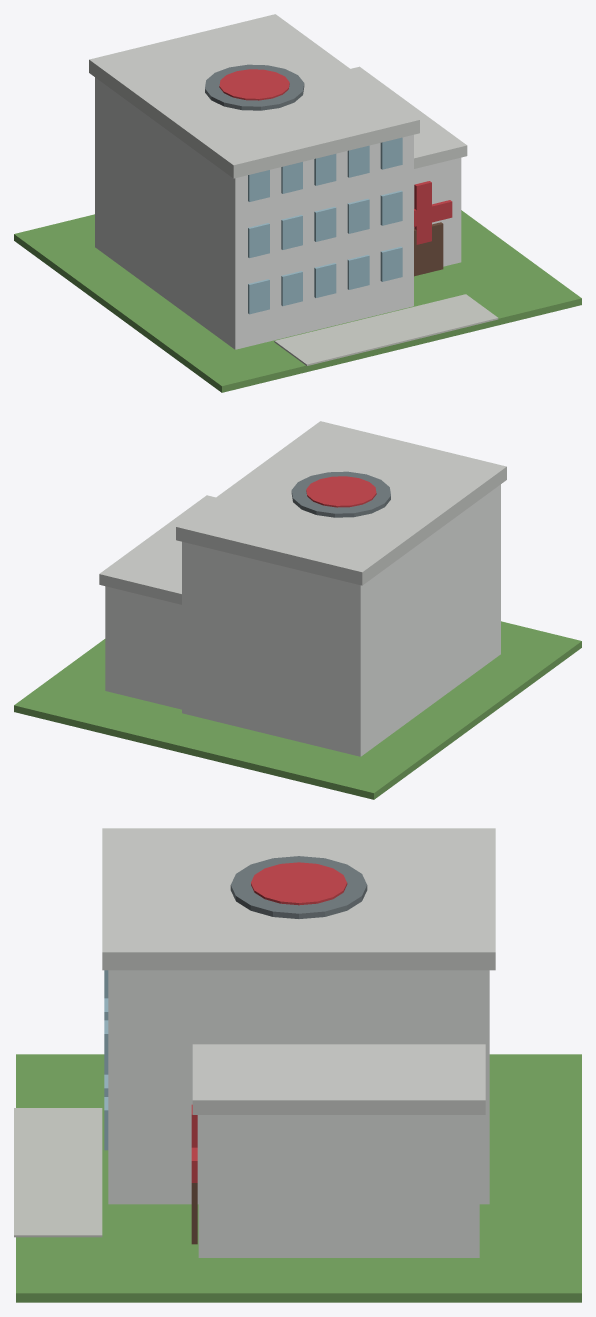
Rendered from hospital.glb.
3 renders of one model, top to bottom at view 1: azimuth 30°, elevation 25°; view 2: azimuth 150°, elevation 25°; view 3: azimuth 270°, elevation 25°, orthographic. The views are drawn at different scales.
Parts seen in each view (by area): view 1: hospital; view 2: hospital; view 3: hospital.
Boxes of the visible parts, left/top/right/bottom form: hospital: left=14, top=14, right=581, bottom=392; hospital: left=14, top=421, right=581, bottom=799; hospital: left=14, top=828, right=581, bottom=1302.
Bounding box in the file's own units: 2.82 × 1.49 × 2.83.
